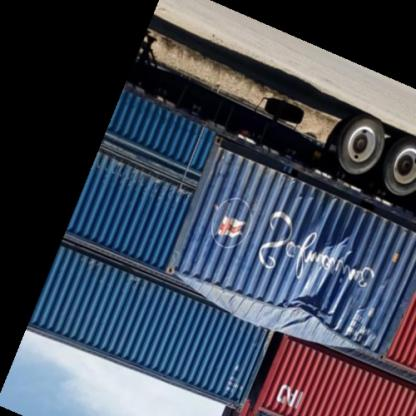Damage: (186, 217, 388, 357)
